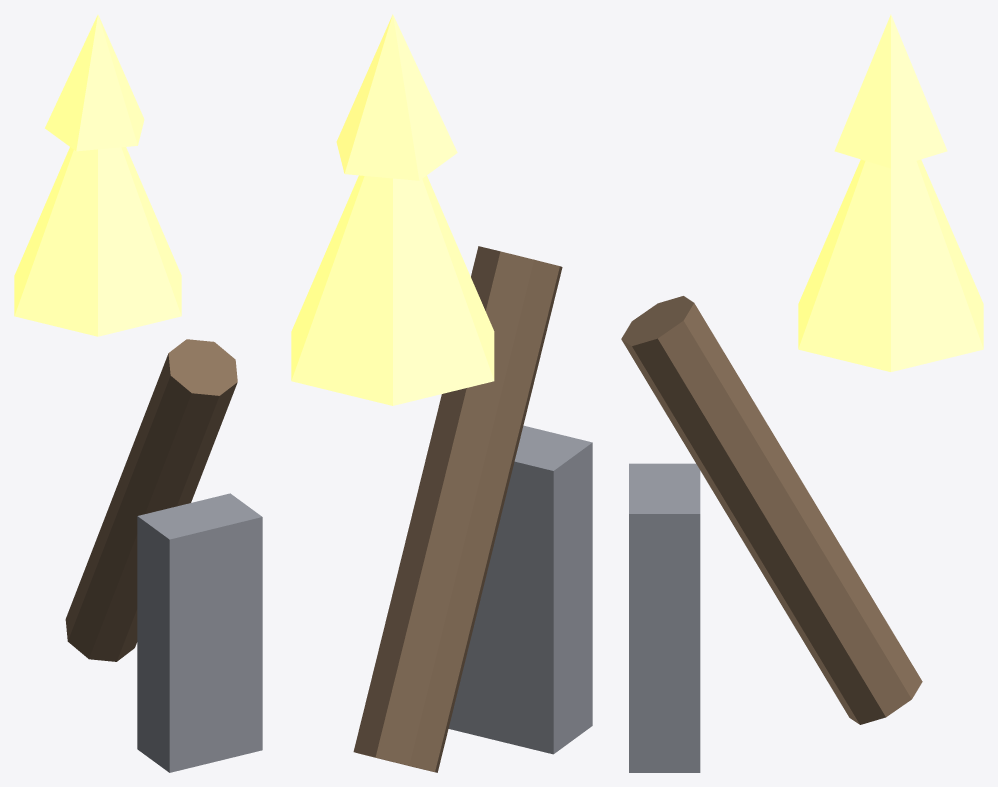
The model's file is torch_wall.glb.
The picture shows the model from 3 angles, left to right: view 1: azimuth 30°, elevation 25°; view 2: azimuth 150°, elevation 25°; view 3: azimuth 270°, elevation 25°; orthographic projection. The views are drawn at different scales.
Parts seen in each view (by area): view 1: torch_wall_00, torch_wall_02, torch_wall_01, torch_wall_03; view 2: torch_wall_01, torch_wall_02, torch_wall_00, torch_wall_03; view 3: torch_wall_01, torch_wall_02, torch_wall_00, torch_wall_03.
Boxes of the visible parts, box(x1,y1,x2,y2) form: torch_wall_00: box(137, 493, 262, 772); torch_wall_02: box(14, 147, 181, 336); torch_wall_01: box(65, 339, 237, 661); torch_wall_03: box(45, 14, 144, 151); torch_wall_01: box(353, 246, 562, 772); torch_wall_02: box(291, 175, 494, 405); torch_wall_00: box(448, 425, 592, 754); torch_wall_03: box(336, 14, 457, 180); torch_wall_01: box(621, 296, 922, 724); torch_wall_02: box(798, 159, 983, 371); torch_wall_00: box(629, 463, 700, 772); torch_wall_03: box(834, 14, 947, 168).
Bounding box in the file's own units: 0.18 × 0.68 × 0.3045.
